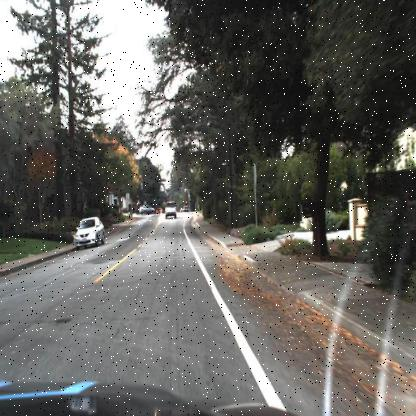car: (72, 214, 106, 251), (164, 199, 178, 222), (139, 203, 155, 215)
